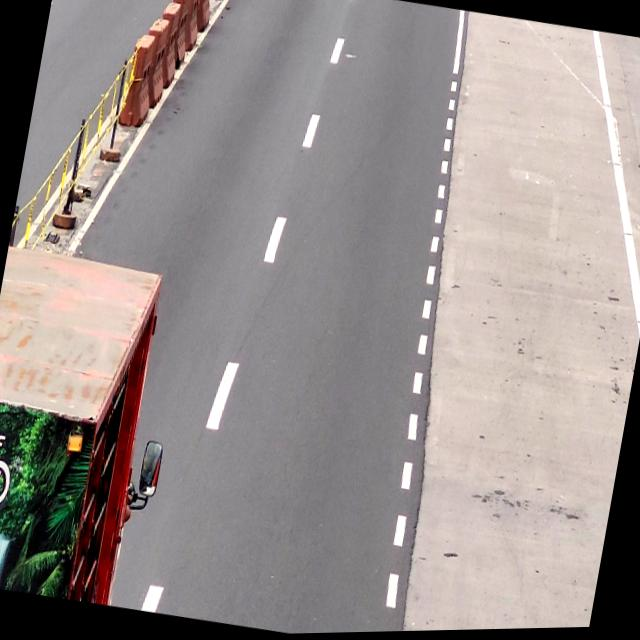Truck: (0, 246, 170, 608)
